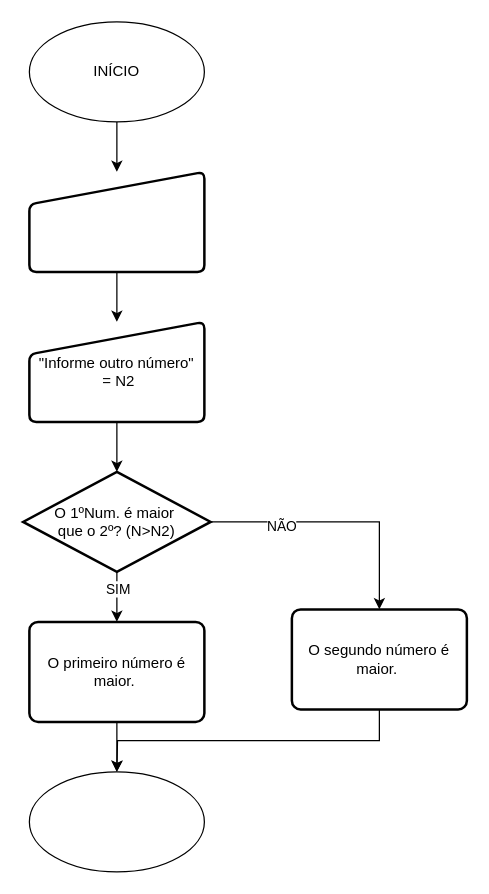
Image size: 489x894. Some labels were removed from this diagram. The box of each missing label's shape, as (x1, y1, x2, y2) in pixels:
"Informe um número" = N: (28, 170, 205, 272)
TÉRMINO: (28, 771, 204, 872)
